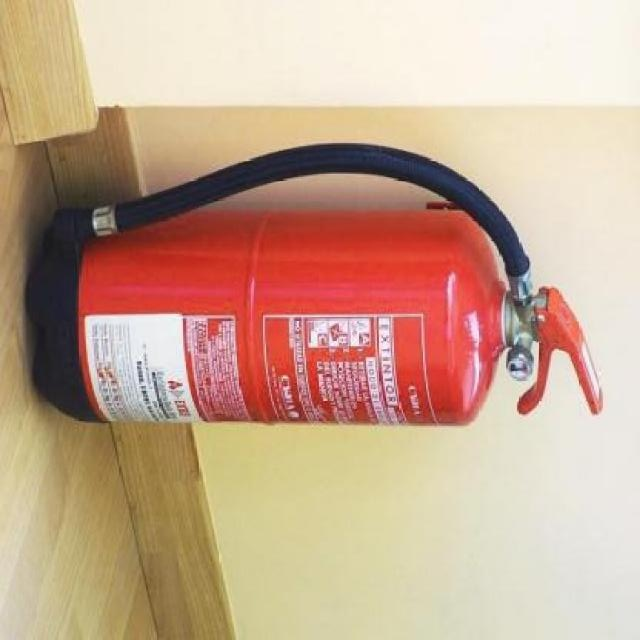fire extinguisher: (25, 142, 603, 426)
